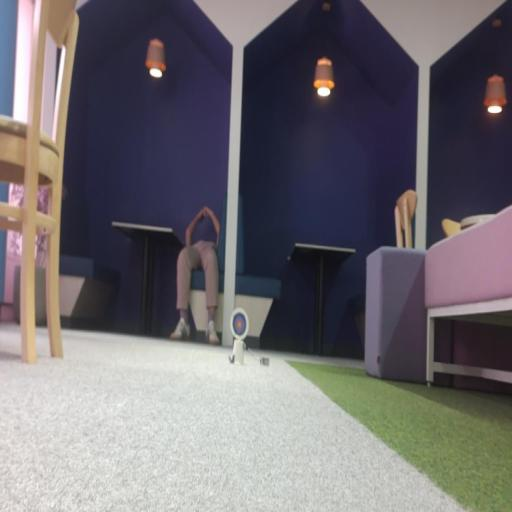target: (230, 308, 248, 340)
